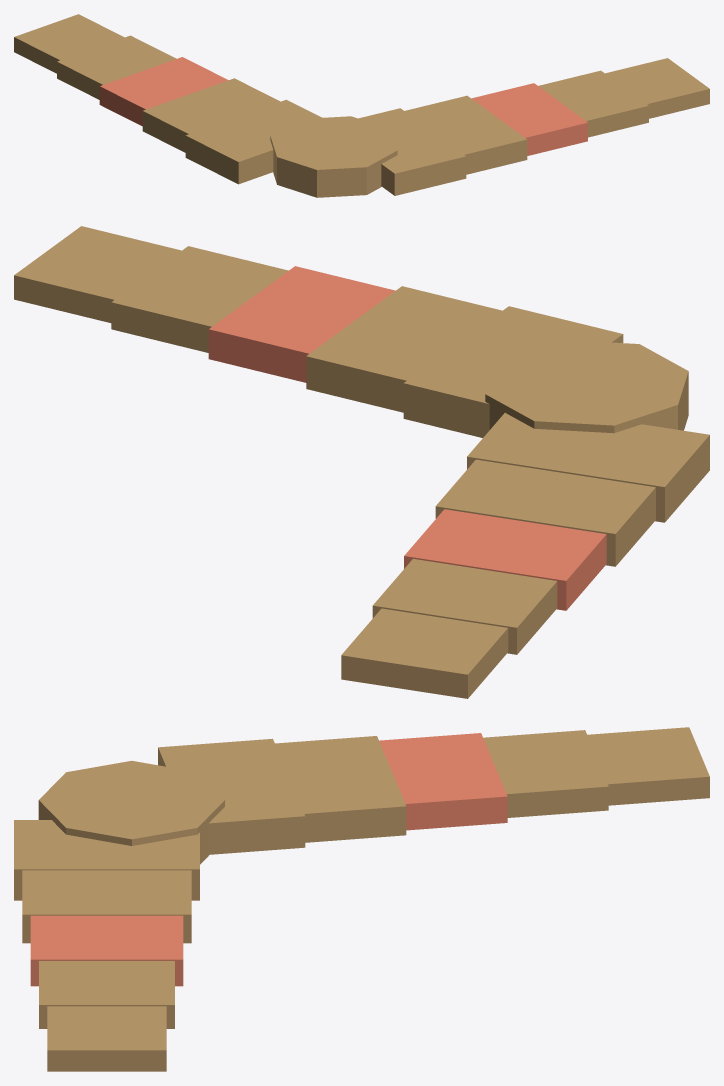
File: Boomerang.glb
The picture shows the model from 3 angles, top to bottom: view 1: azimuth 30°, elevation 25°; view 2: azimuth 150°, elevation 25°; view 3: azimuth 270°, elevation 25°; orthographic projection. The views are drawn at different scales.
Parts seen in each view (by area): view 1: Boomerang; view 2: Boomerang; view 3: Boomerang.
Part boxes in pixels (x1,y1,x2,y2): Boomerang: (14,14,709,197); Boomerang: (14,226,709,698); Boomerang: (14,727,709,1071).
Bounding box in the file's own units: 0.6165 × 0.035 × 0.561.
